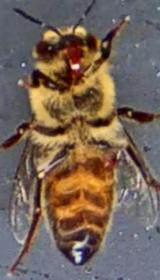varroa_mite: (88, 143, 124, 178)
